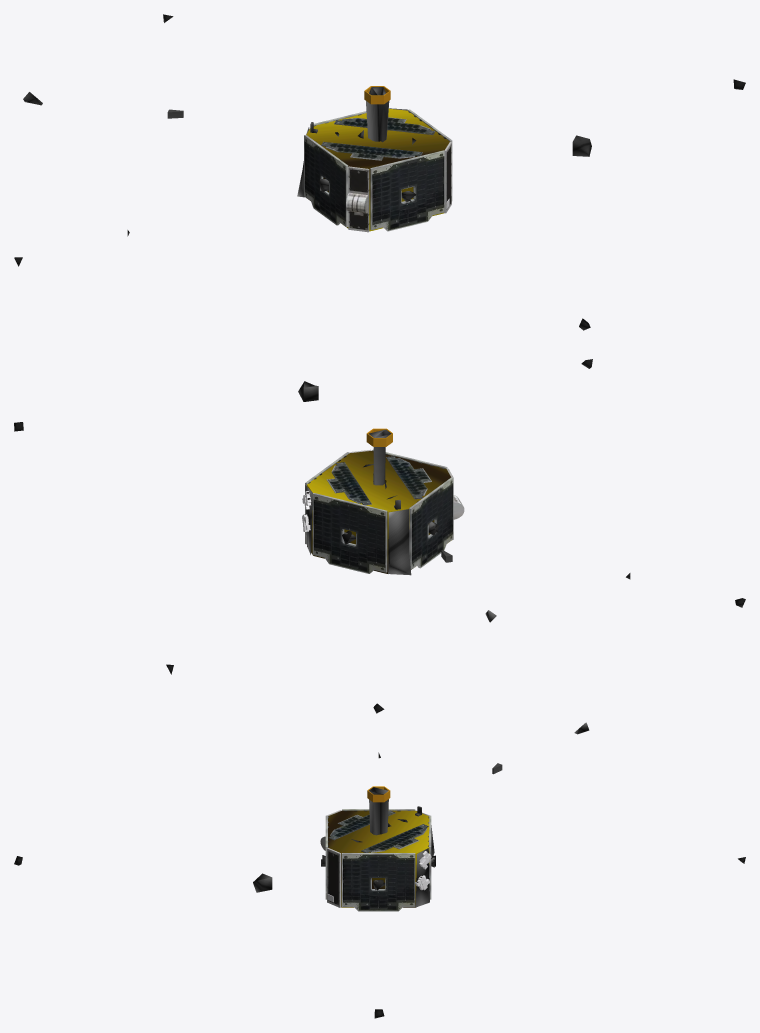
File: time-history-of-events-and-macroscale-interactio.glb
The picture shows the model from 3 angles, top to bottom: view 1: azimuth 30°, elevation 25°; view 2: azimuth 150°, elevation 25°; view 3: azimuth 270°, elevation 25°; orthographic projection. The views are drawn at different scales.
Visible parts, largest first — view 1: shiny_panel, foil_gold, foil_silver; view 2: shiny_panel, foil_gold, foil_silver; view 3: shiny_panel, foil_gold, foil_silver.
Boxes of the visible parts, x1,y1,x2,y2 form: shiny_panel: [304, 86, 452, 232]; foil_gold: [306, 108, 449, 231]; foil_silver: [14, 14, 745, 330]; shiny_panel: [302, 428, 464, 573]; foil_gold: [307, 451, 451, 573]; foil_silver: [14, 359, 745, 674]; shiny_panel: [320, 786, 431, 911]; foil_gold: [328, 810, 429, 907]; foil_silver: [14, 703, 745, 1018].
Size of the model in its own units: 6.07 by 0.9851 by 6.06.
3 materials, 3 textured.
